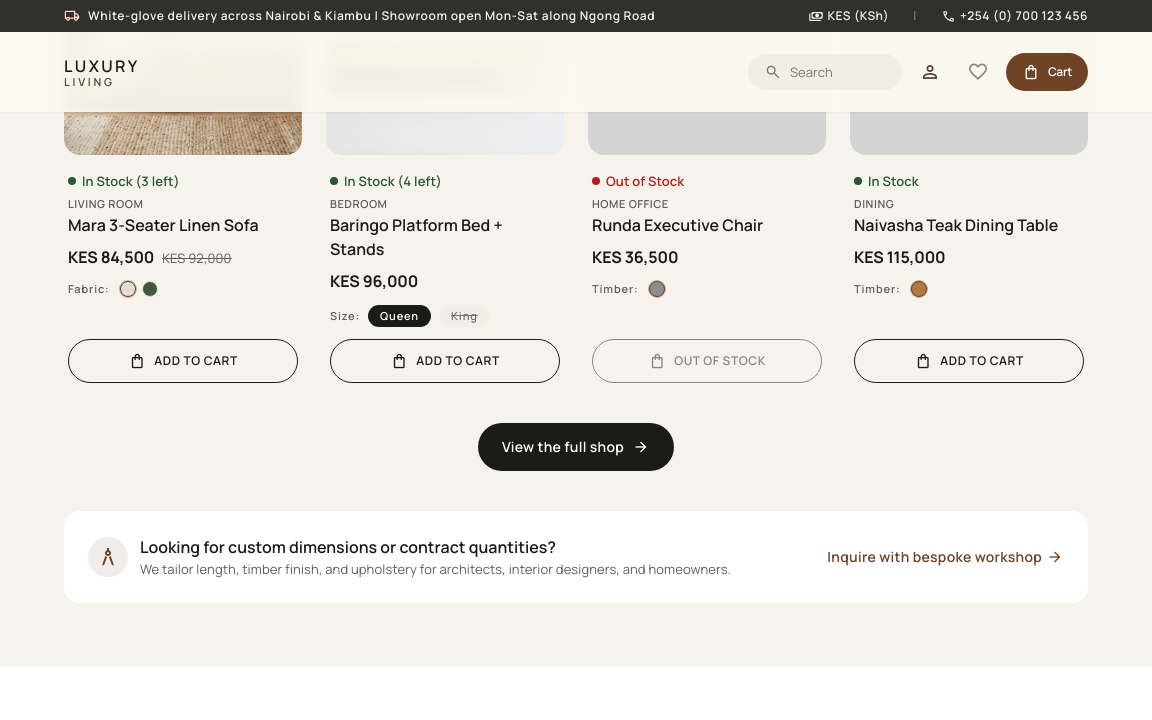
Test: signing in › asks guests to sign in instead of adding to the cart
(page scrolled)
Check: the heading "Mara 3-Seater Linen Sofa" is shown, box [68,214,258,236]
Click the button "Add to Cart" below "KES 84,500": (183, 360) [68,338,298,382]
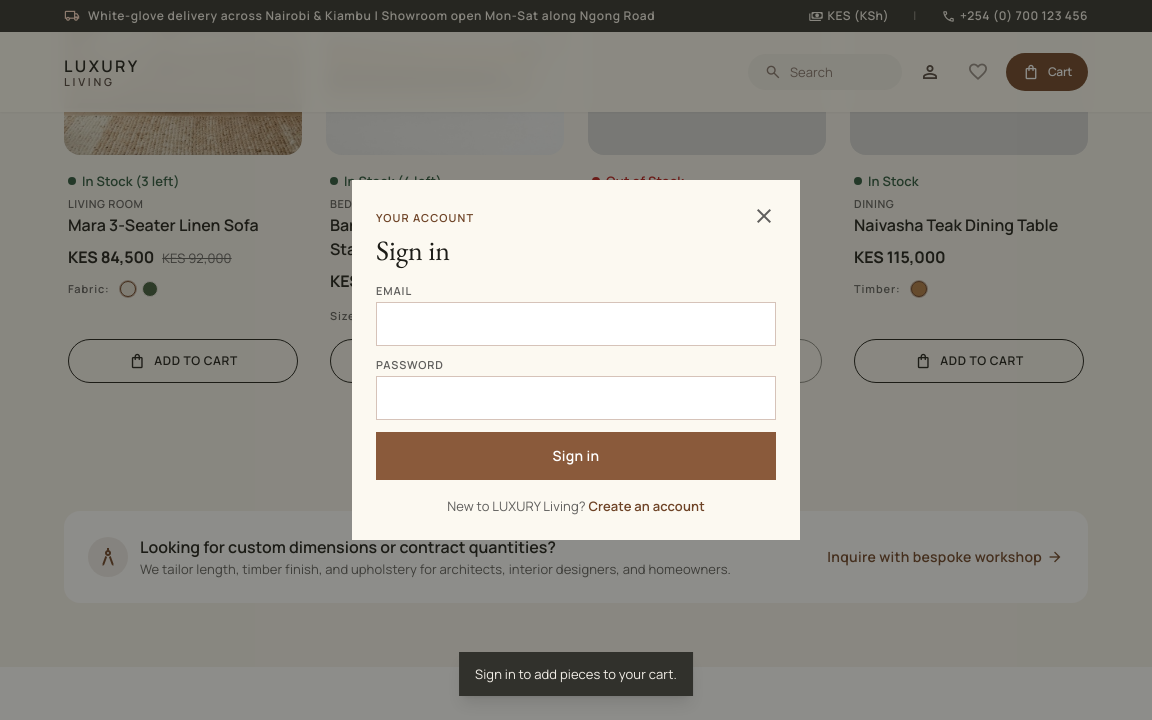
Check: the dialog "Sign in" is shown, box [352,180,800,540]
